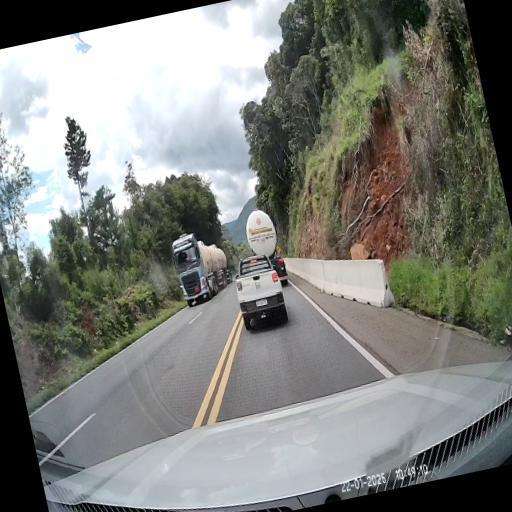A-2b: (275, 244, 281, 254)
